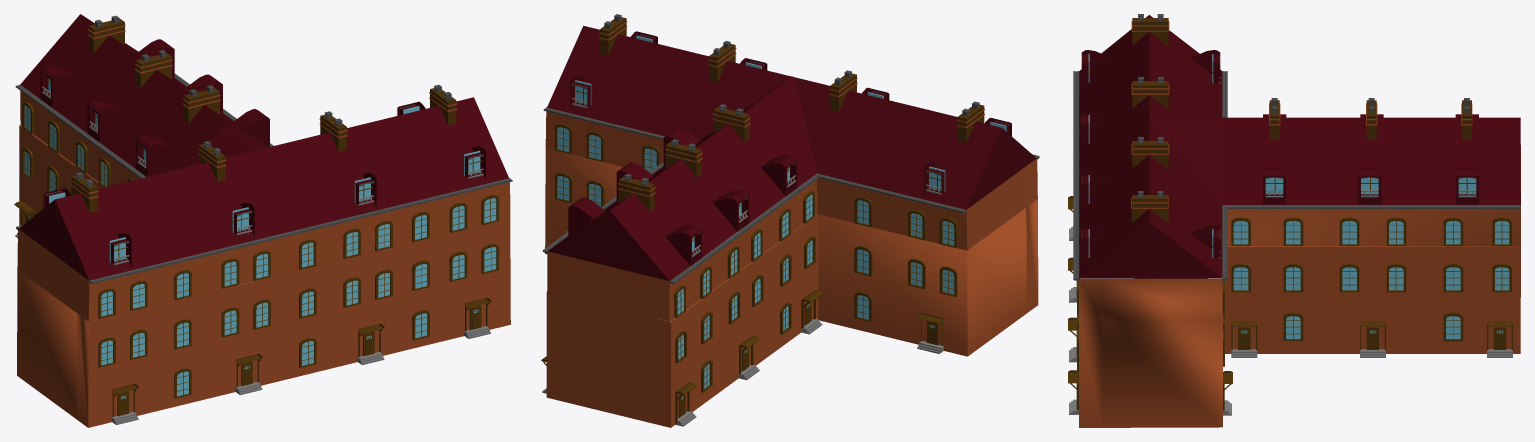
File: ratuszT.fbx
3 renders of one model, left to right at view 1: azimuth 30°, elevation 25°; view 2: azimuth 150°, elevation 25°; view 3: azimuth 270°, elevation 25°, orthographic.
Visible parts, largest first — view 1: Cube, Cube.001, Cube.109, Cube.041, Cube.045, Cube.092, Cube.110, Cube.125, Cube.005, Cube.014, Cube.007, Cube.097 (+11 smaller); view 2: Cube, Cube.001, Cube.109, Cube.041, Cube.092, Cube.125, Cube.110, Cube.018, Cube.049, Cube.014, Cube.005, Cube.007 (+11 smaller); view 3: Cube, Cube.109, Cube.001, Cube.112, Cube.092, Cube.041, Cube.045, Cube.049, Cube.110, Cube.082, Cube.015, Cube.018 (+12 smaller).
Part boxes in pixels (x1,y1,x2,y2): Cube: (17,88,510,427); Cube.001: (19,97,508,280); Cube.109: (20,14,268,176); Cube.041: (40,39,269,176); Cube.045: (16,178,512,283); Cube.092: (21,102,133,191); Cube.110: (15,73,273,178); Cube.125: (24,105,107,191); Cube.005: (183,88,219,122); Cube.014: (135,53,171,87); Cube.007: (88,18,124,53); Cube.097: (343,173,376,206); Cube: (545,107,1038,427); Cube.001: (547,25,1036,209); Cube.109: (548,76,816,281); Cube.041: (568,128,797,265); Cube.092: (674,191,815,392); Cube.125: (677,194,812,388); Cube.110: (542,162,821,283); Cube.018: (541,290,823,423); Cube.049: (677,196,813,387); Cube.014: (665,142,701,176); Cube.005: (713,107,749,141); Cube.007: (618,176,654,211); Cube: (1078,71,1520,427); Cube.109: (1149,117,1520,204); Cube.001: (1079,15,1222,278); Cube.112: (1233,221,1509,338); Cube.092: (1231,217,1511,341); Cube.041: (1263,114,1478,204); Cube.045: (1073,71,1227,280); Cube.049: (1234,221,1509,339); Cube.110: (1222,205,1520,208); Cube.082: (1238,327,1506,349); Cube.015: (1265,177,1476,194); Cube.018: (1231,321,1512,350).
Bounding box in the file's own units: 995 × 488 × 911.
215 materials, 215 textured.
